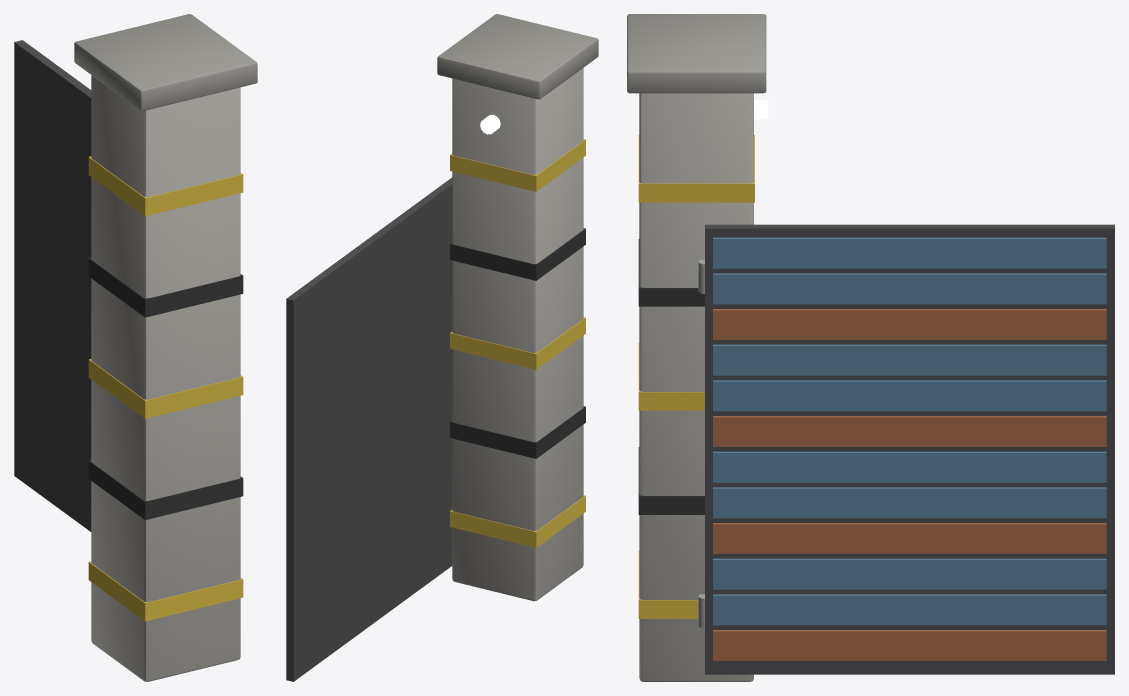
Rendered from gate.glb.
3 views of the same model, side by side, from view 1: azimuth 30°, elevation 25°; view 2: azimuth 150°, elevation 25°; view 3: azimuth 270°, elevation 25° (orthographic). The views are drawn at different scales.
Parts seen in each view (by area): view 1: Part; view 2: Part; view 3: Part.
Part boxes in pixels (x1,y1,x2,y2): Part: (14, 14, 257, 681); Part: (286, 14, 598, 681); Part: (627, 14, 1114, 681).
Bounding box in the file's own units: 1.75 × 8.3 × 5.95.
